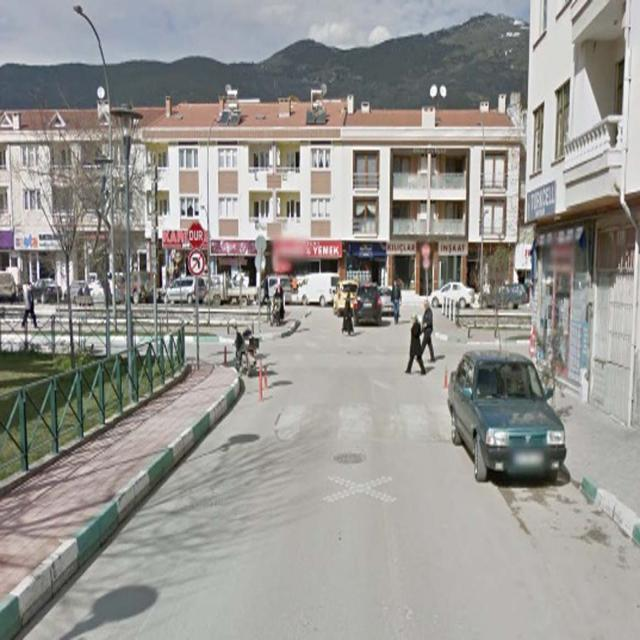dur: (187, 222, 203, 249)
soladonulmez: (188, 249, 205, 275)
